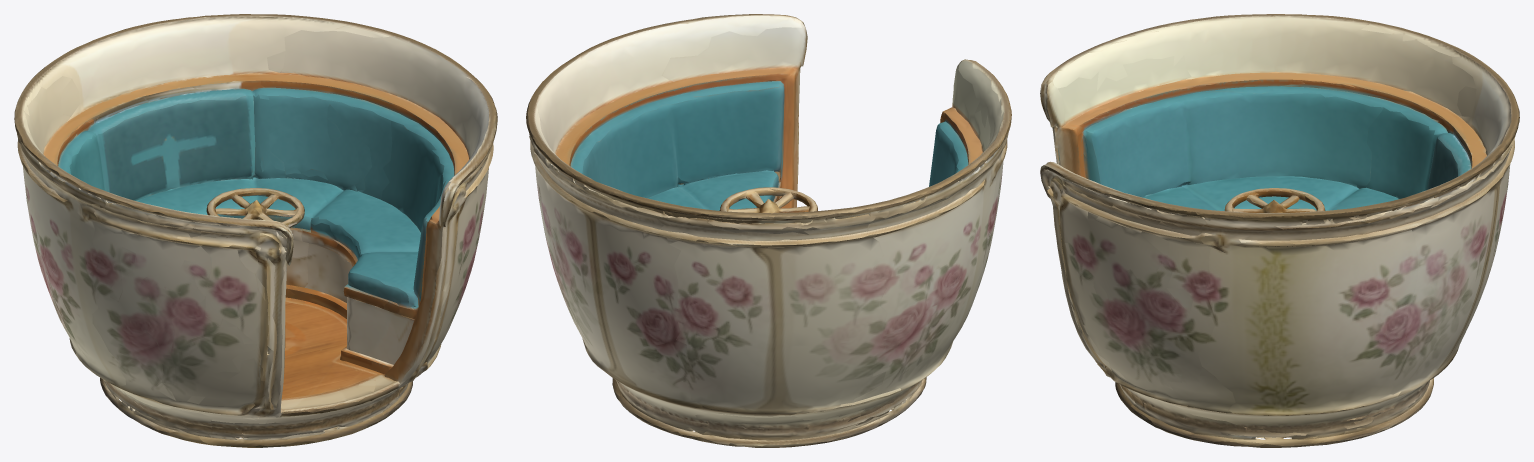
File: unified--teacup.glb
3 renders of one model, left to right at view 1: azimuth 30°, elevation 25°; view 2: azimuth 150°, elevation 25°; view 3: azimuth 270°, elevation 25°, orthographic.
Parts seen in each view (by area): view 1: teacup-0; view 2: teacup-0; view 3: teacup-0.
Boxes of the visible parts, x1,y1,x2,y2 form: teacup-0: [14, 14, 497, 447]; teacup-0: [526, 14, 1011, 447]; teacup-0: [1040, 14, 1519, 447].
Bounding box in the file's own units: 2.8 × 1.74 × 2.79.
1 material, 1 textured.
